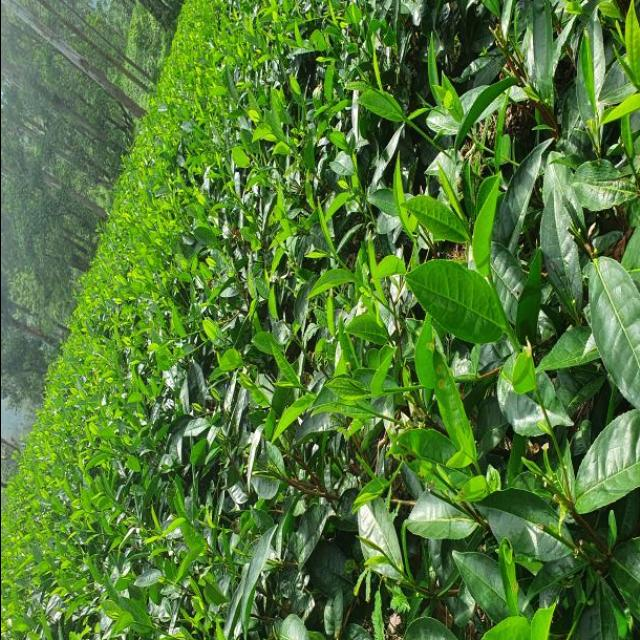Stem: (365, 390, 370, 395), (383, 485, 387, 489), (381, 94, 385, 98), (334, 257, 338, 260), (299, 386, 303, 389), (134, 621, 138, 624)
